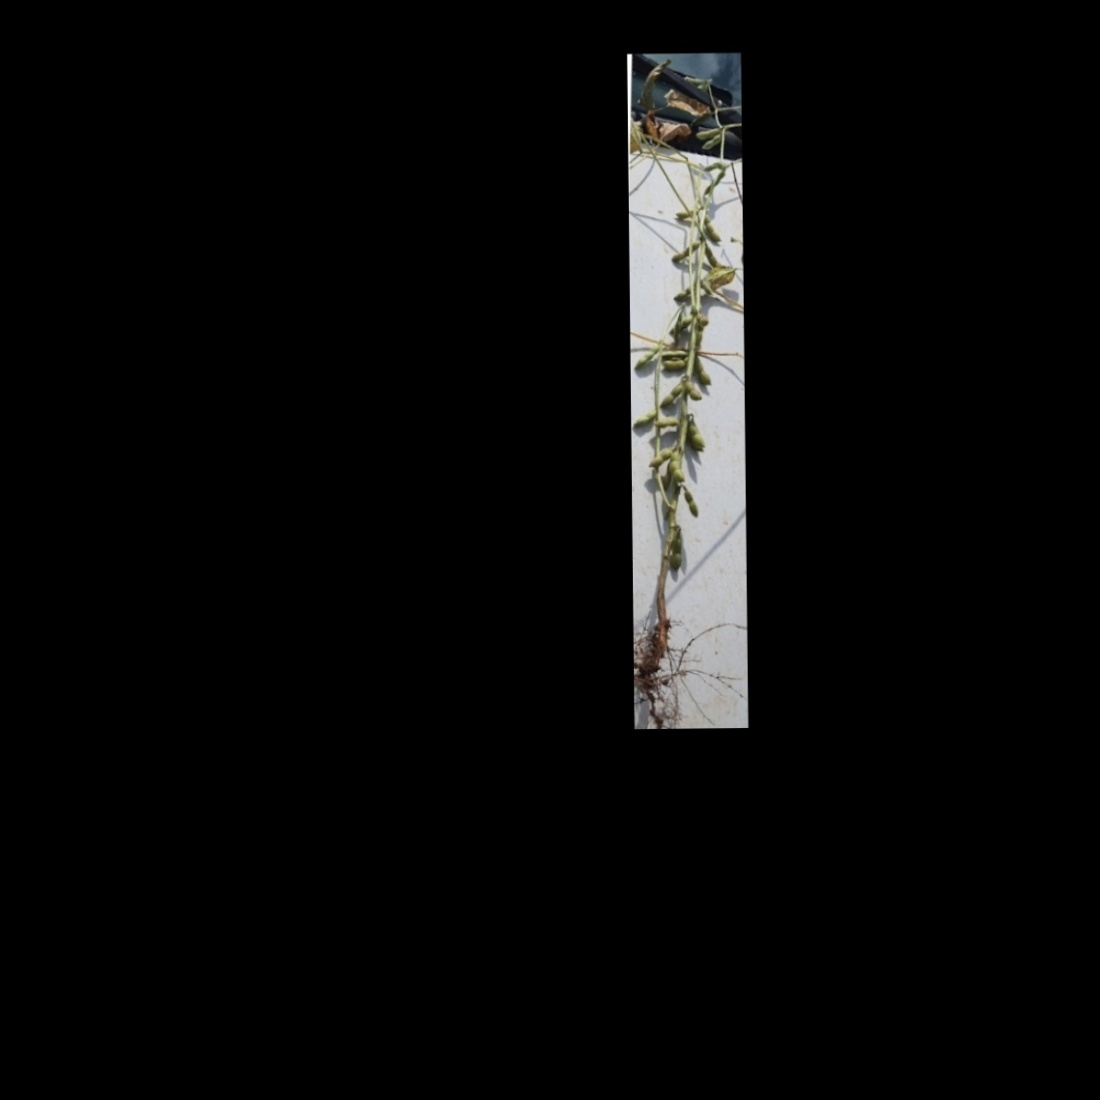pod: (658, 377, 687, 411), (633, 343, 660, 372), (669, 239, 699, 264), (668, 533, 687, 572), (646, 445, 671, 469), (694, 355, 712, 387), (668, 448, 685, 482), (633, 406, 656, 430), (705, 215, 724, 244), (684, 488, 701, 520), (660, 355, 689, 371), (654, 413, 684, 428), (686, 380, 705, 402), (693, 126, 720, 141), (702, 133, 723, 151), (705, 243, 721, 266)
soy: (628, 80, 739, 677)
